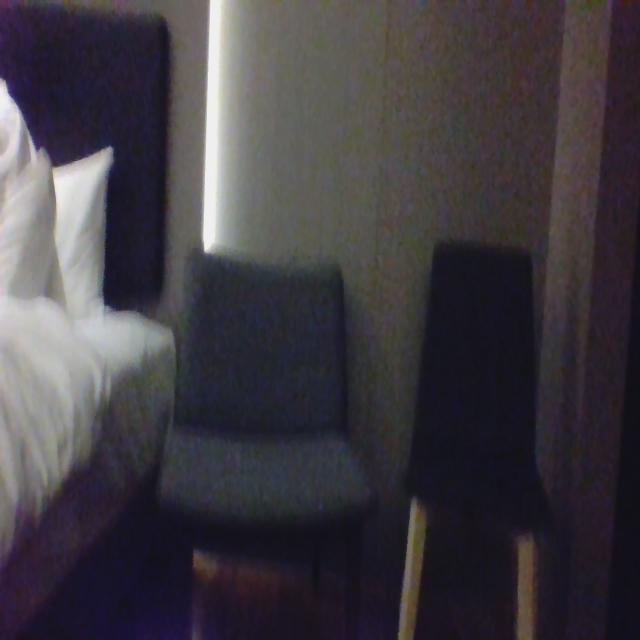empty: (170, 240, 356, 524), (418, 239, 538, 536)
